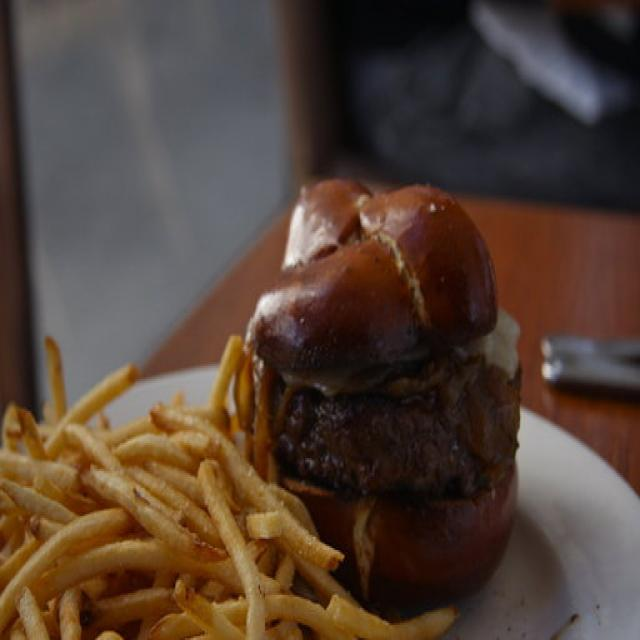burger: (262, 168, 537, 600)
